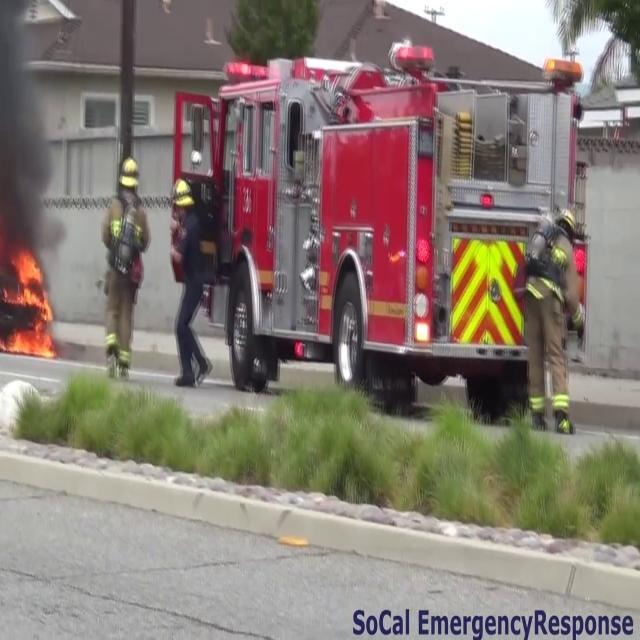Fire: (1, 242, 58, 358)
Smoke: (0, 1, 64, 266)
